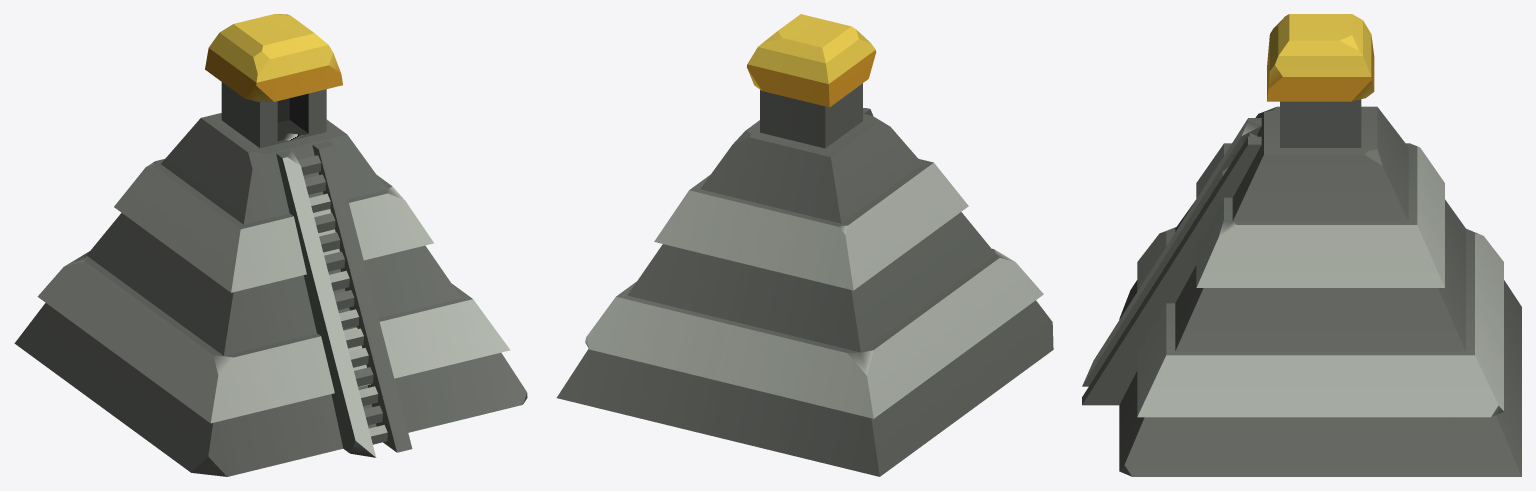
File: Piramide4.glb
3 renders of one model, left to right at view 1: azimuth 30°, elevation 25°; view 2: azimuth 150°, elevation 25°; view 3: azimuth 270°, elevation 25°, orthographic. The views are drawn at different scales.
Parts seen in each view (by area): view 1: piramy; view 2: piramy; view 3: piramy.
Boxes of the visible parts, box(x1,y1,x2,y2) form: piramy: box(14, 14, 527, 476); piramy: box(556, 14, 1053, 476); piramy: box(1082, 14, 1521, 476).
Size of the model in its own units: 2 by 2 by 2.18.
Materials: 1 (1 with a texture image).
